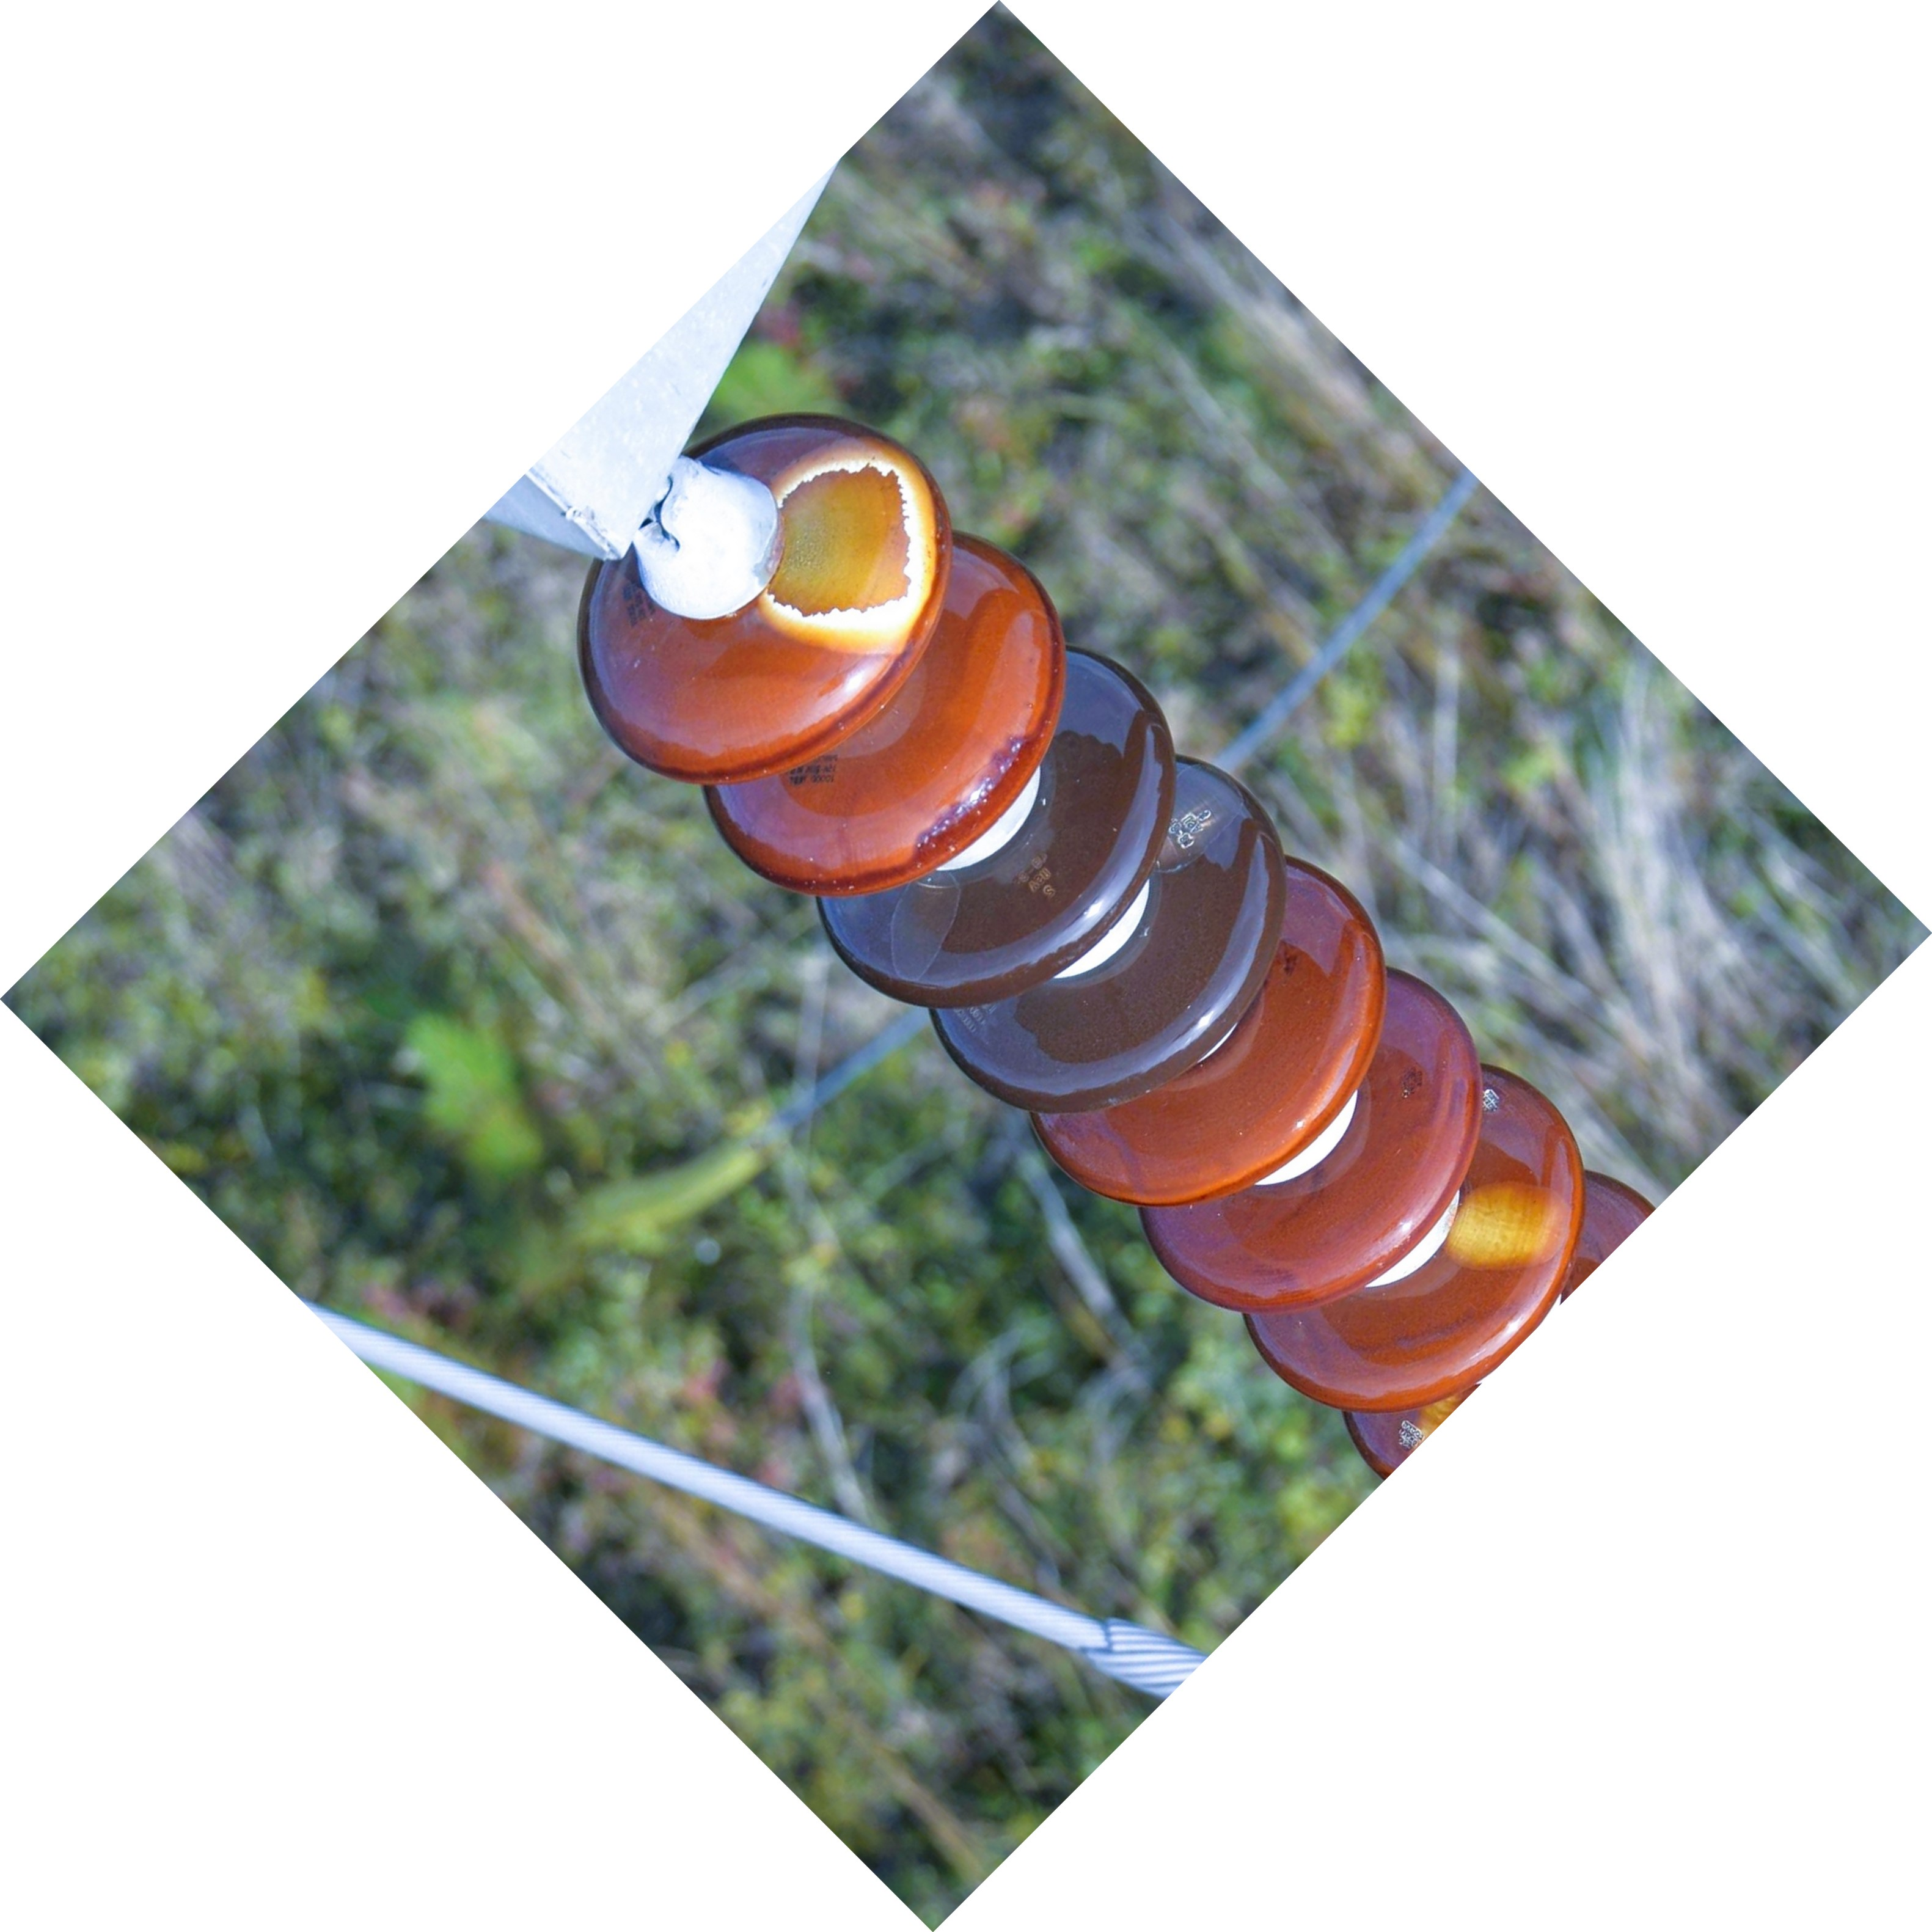Insulator flashover: (563, 407, 962, 789), (1235, 1040, 1596, 1419)
